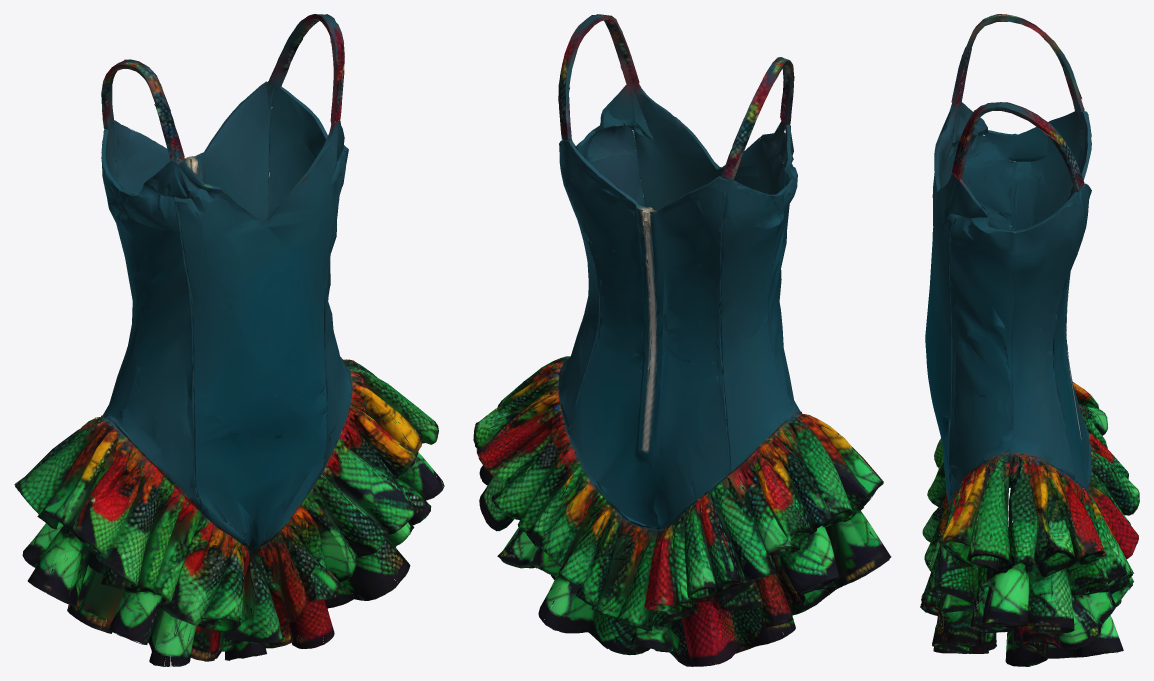
The model's file is dress-01.glb.
The picture shows the model from 3 angles, left to right: view 1: azimuth 30°, elevation 25°; view 2: azimuth 150°, elevation 25°; view 3: azimuth 270°, elevation 25°; orthographic projection. The views are drawn at different scales.
Visible parts, largest first — view 1: node_0; view 2: node_0; view 3: node_0.
Boxes of the visible parts, x1=… form: node_0: x1=14, y1=14, x2=444, y2=666; node_0: x1=473, y1=14, x2=891, y2=666; node_0: x1=920, y1=14, x2=1139, y2=666.
Size of the model in its own units: 0.7855 by 1.13 by 0.3804.
Materials: 1 (1 with a texture image).
